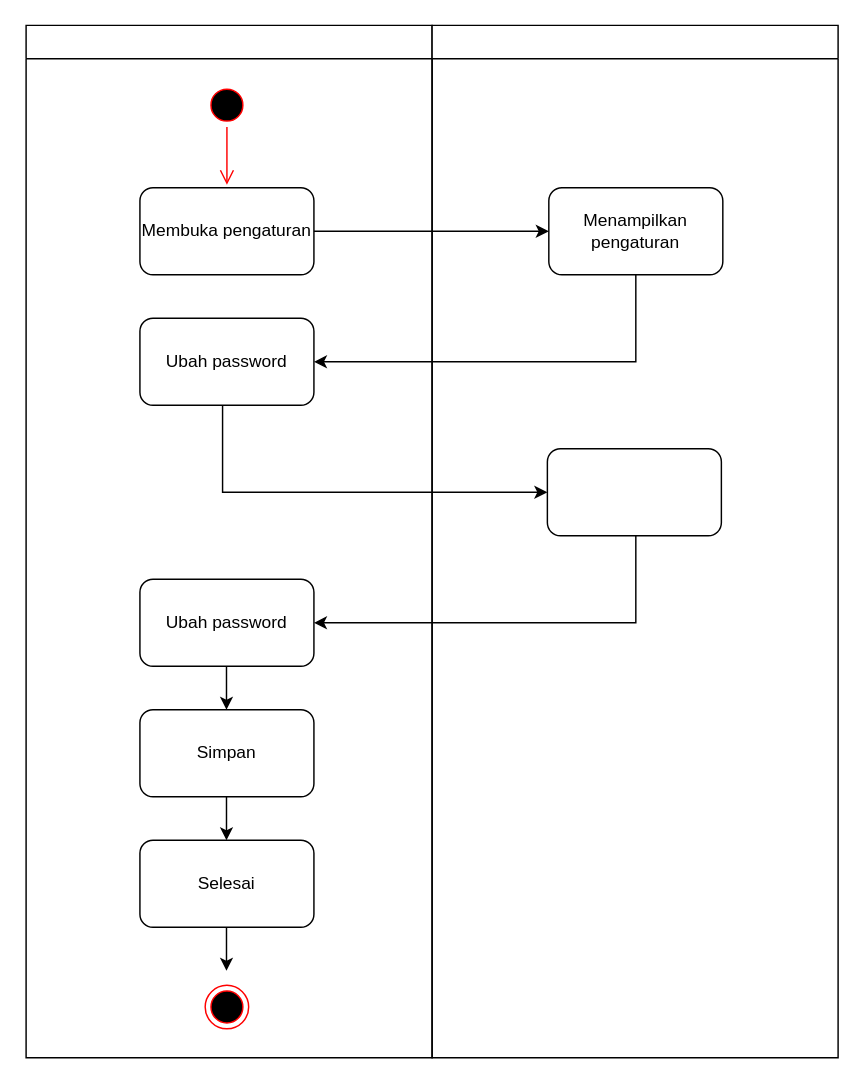
The diagram is 863 pixels wide and 1083 high, and some of its shapes have lost their labels. The box of each missing label's shape, as (x1, y1, x2, y2) in pixels:
Admin Gudang: (25, 24, 432, 1058)
Menampilkan halaman ubah password: (546, 447, 721, 536)
Sistem: (431, 24, 838, 1058)
